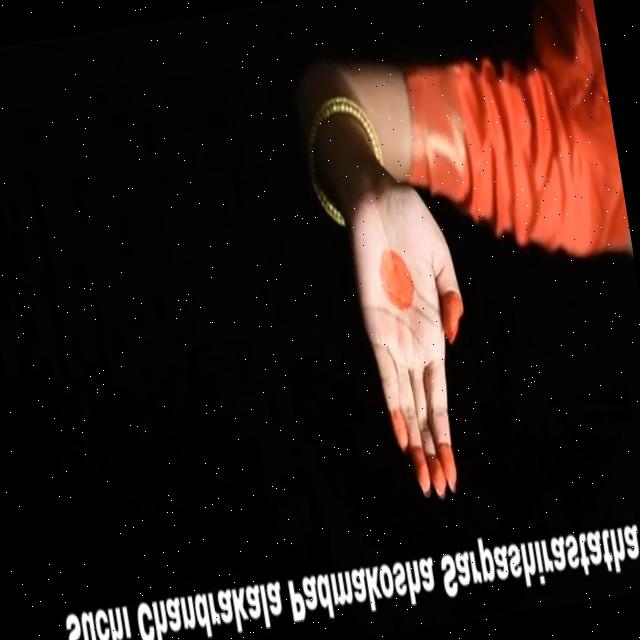Sarpashirsha: (325, 165, 504, 505)
bangle: (284, 68, 398, 210)
text: (53, 495, 640, 640)
